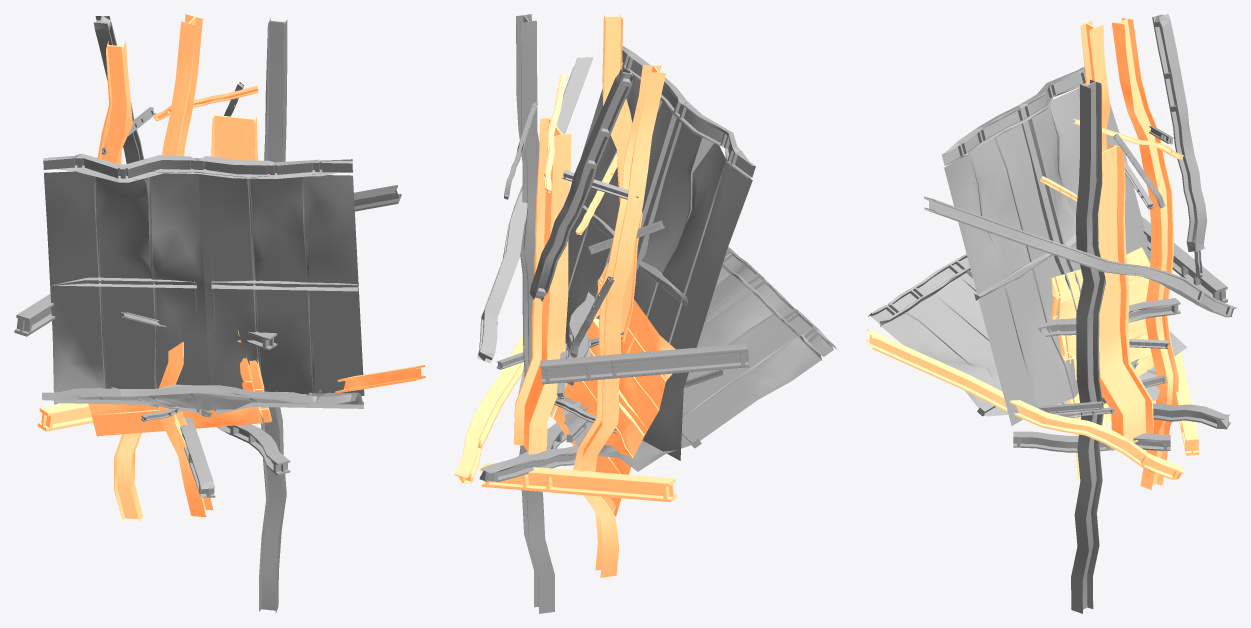
Rendered from SM_MainBuilding5.fbx.
3 renders of one model, left to right at view 1: azimuth 30°, elevation 25°; view 2: azimuth 150°, elevation 25°; view 3: azimuth 270°, elevation 25°, orthographic. The views are drawn at different scales.
Visible parts, largest first — view 1: SM_MainBuilding5_LOD0; view 2: SM_MainBuilding5_LOD0; view 3: SM_MainBuilding5_LOD0.
Boxes of the visible parts, left/top/right/bottom form: SM_MainBuilding5_LOD0: left=14, top=14, right=425, bottom=613; SM_MainBuilding5_LOD0: left=454, top=14, right=836, bottom=613; SM_MainBuilding5_LOD0: left=866, top=14, right=1236, bottom=613.
Bounding box in the file's own units: 621 × 694 × 1141.
